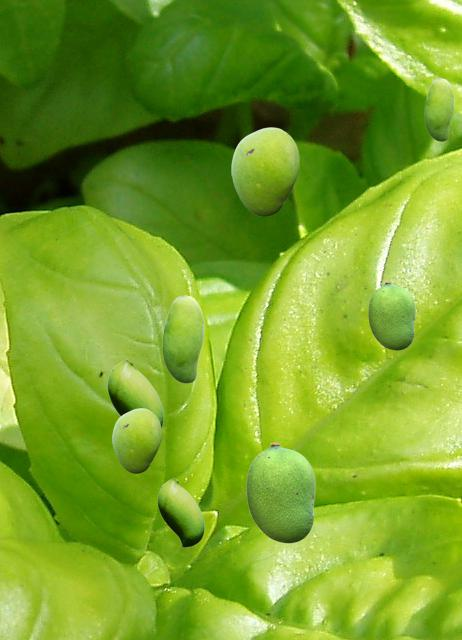green_mango: (246, 442, 314, 542), (231, 127, 298, 215), (107, 359, 162, 430), (162, 295, 203, 382), (157, 478, 203, 546), (368, 281, 414, 349), (112, 408, 160, 472), (424, 78, 453, 140)
